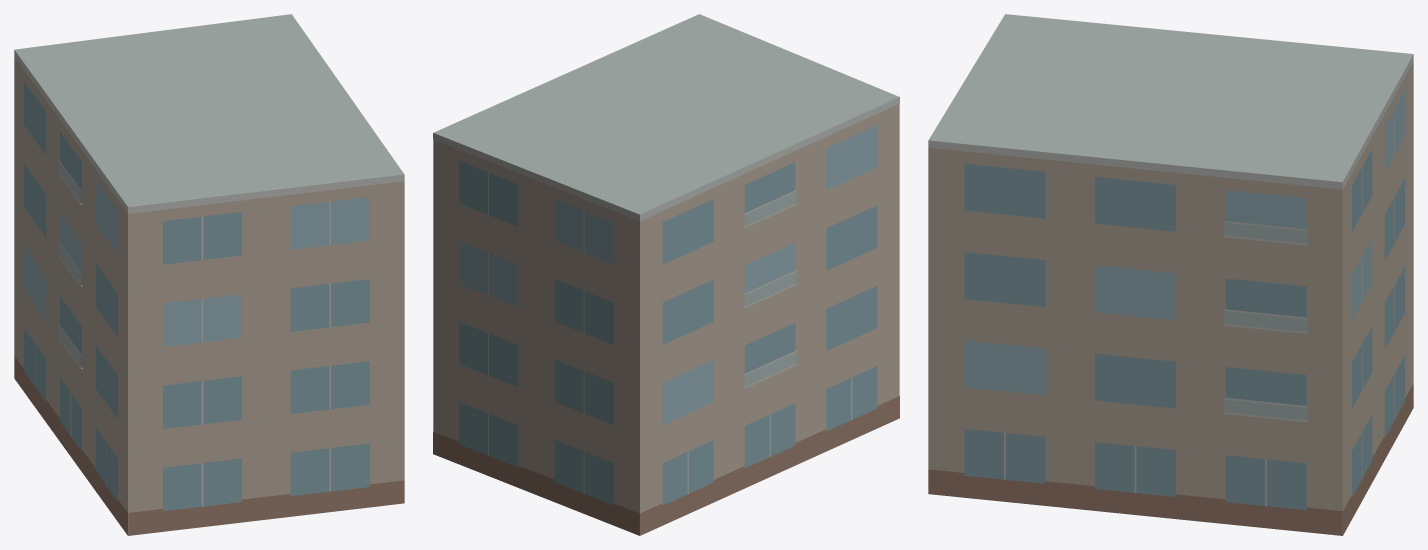
The model's file is survey-upis-32537875.glb.
3 views of the same model, side by side, from view 1: azimuth 30°, elevation 25°; view 2: azimuth 150°, elevation 25°; view 3: azimuth 270°, elevation 25° (orthographic). The views are drawn at different scales.
Parts seen in each view (by area): view 1: survey-upis-32537875.tmp; view 2: survey-upis-32537875.tmp; view 3: survey-upis-32537875.tmp.
Boxes of the visible parts, x1,y1,x2,y2 form: survey-upis-32537875.tmp: (14,14,404,535); survey-upis-32537875.tmp: (433,14,899,535); survey-upis-32537875.tmp: (928,14,1413,535).
Size of the model in its own units: 12.05 by 11.8 by 14.69.
